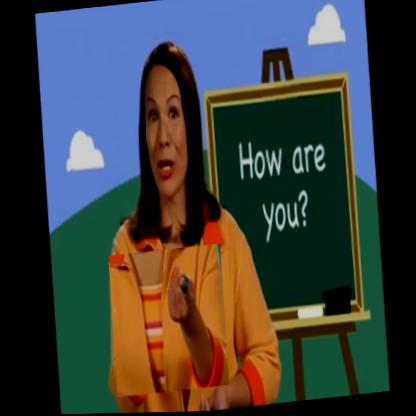HowAreYou: (108, 244, 234, 398)
